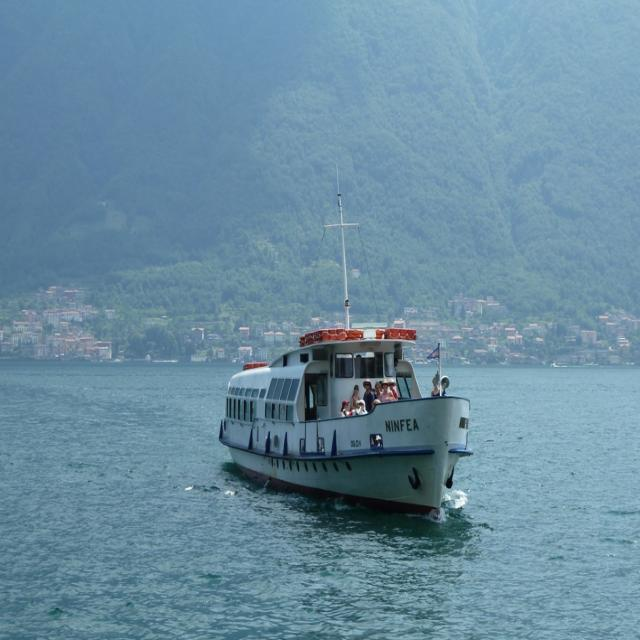fishing boat: (189, 294, 485, 535)
